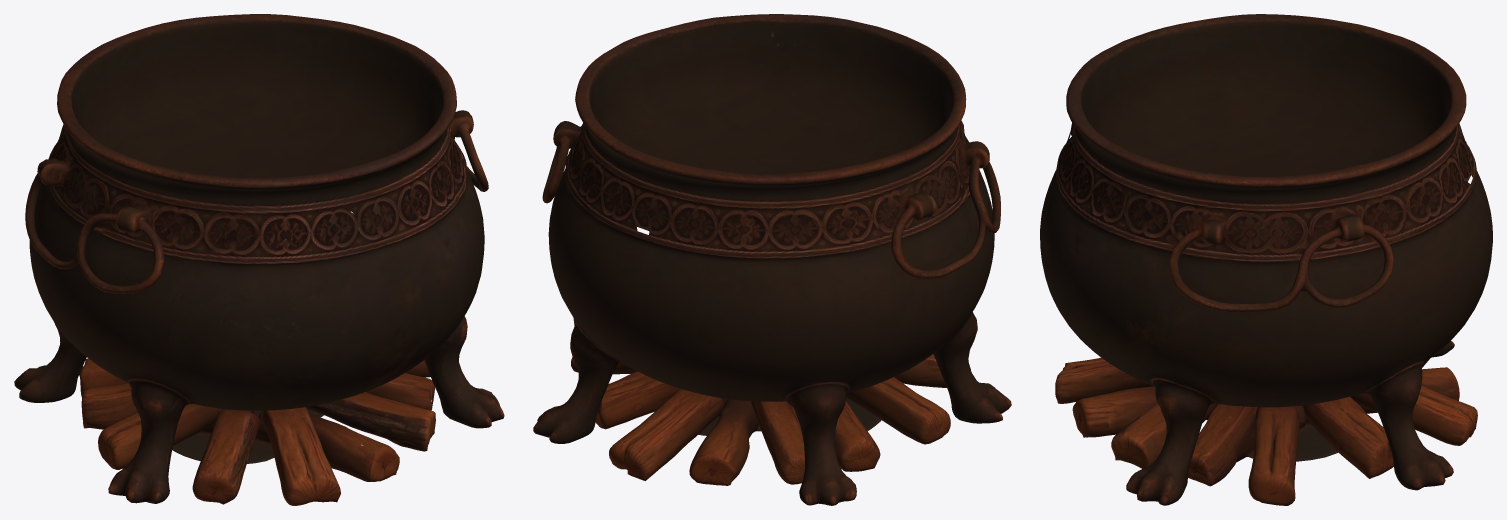
The model's file is medieval-cauldron.glb.
3 renders of one model, left to right at view 1: azimuth 30°, elevation 25°; view 2: azimuth 150°, elevation 25°; view 3: azimuth 270°, elevation 25°, orthographic. The views are drawn at different scales.
Visible parts, largest first — view 1: tripo_node_617c220b; view 2: tripo_node_617c220b; view 3: tripo_node_617c220b.
Part boxes in pixels (x1,y1,x2,y2): tripo_node_617c220b: [14, 14, 504, 505]; tripo_node_617c220b: [533, 14, 1011, 505]; tripo_node_617c220b: [1040, 14, 1492, 505].
Bounding box in the file's own units: 97.82 × 73.33 × 94.07.
Materials: 1 (1 with a texture image).
